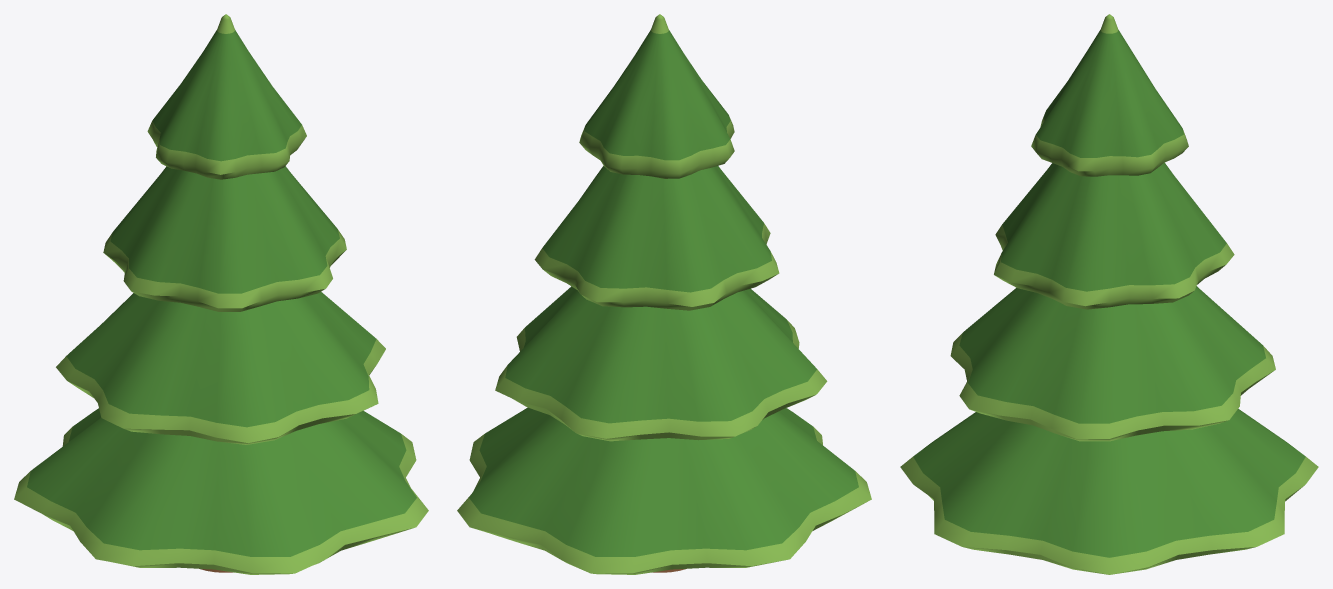
Rendered from PineTree_02.glb.
3 views of the same model, side by side, from view 1: azimuth 30°, elevation 25°; view 2: azimuth 150°, elevation 25°; view 3: azimuth 270°, elevation 25° (orthographic).
Parts seen in each view (by area): view 1: PineTree_02; view 2: PineTree_02; view 3: PineTree_02.
Boxes of the visible parts, x1,y1,x2,y2 form: PineTree_02: (14,14,428,574); PineTree_02: (457,14,871,574); PineTree_02: (900,14,1318,574).
Size of the model in its own units: 5.85 by 8.45 by 5.97.
